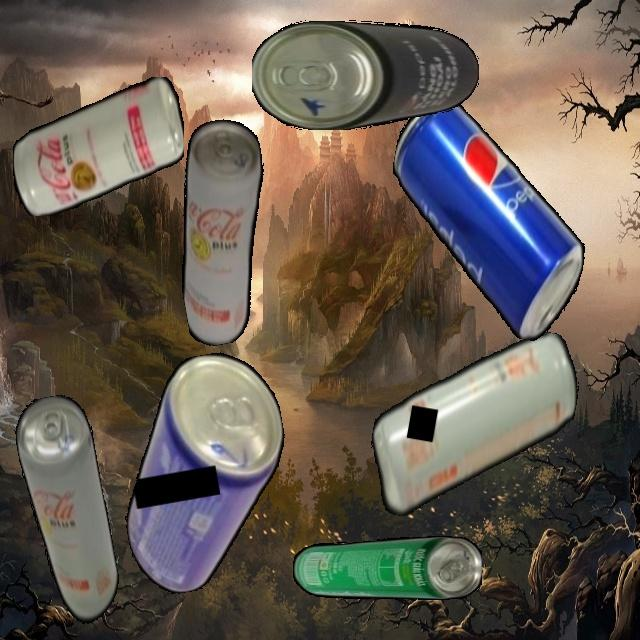debris: (368, 91, 607, 347), (360, 306, 587, 542), (100, 344, 308, 600), (155, 114, 293, 349), (10, 391, 126, 633), (252, 19, 479, 130), (12, 76, 184, 216), (292, 536, 482, 600)
